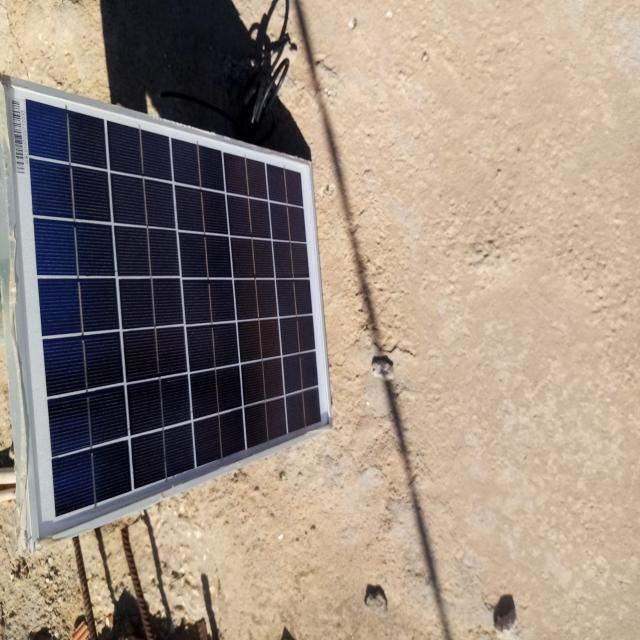no faulty: (3, 80, 332, 550)
